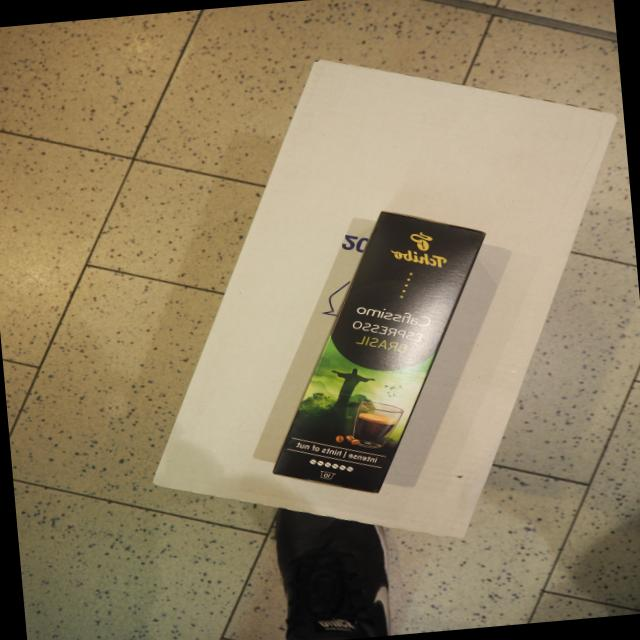Simo Es Brazil: (268, 208, 490, 498)
